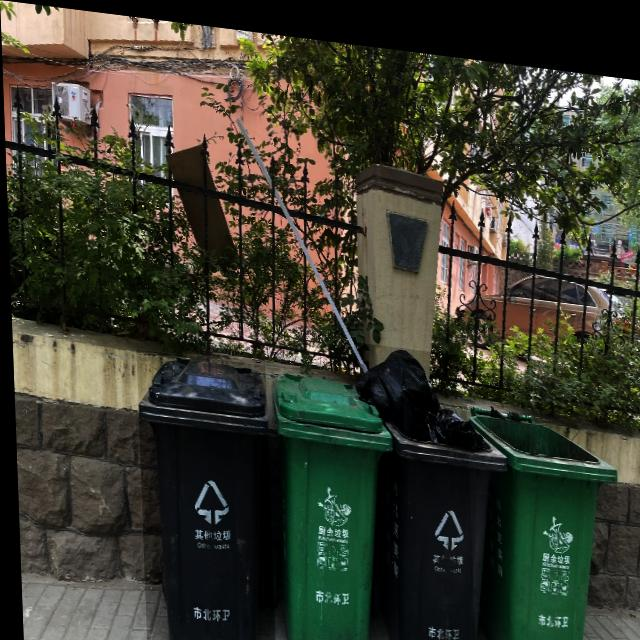garbage_bin: (134, 346, 272, 640), (464, 392, 620, 640), (268, 364, 395, 640)
overflow: (352, 333, 509, 640)
